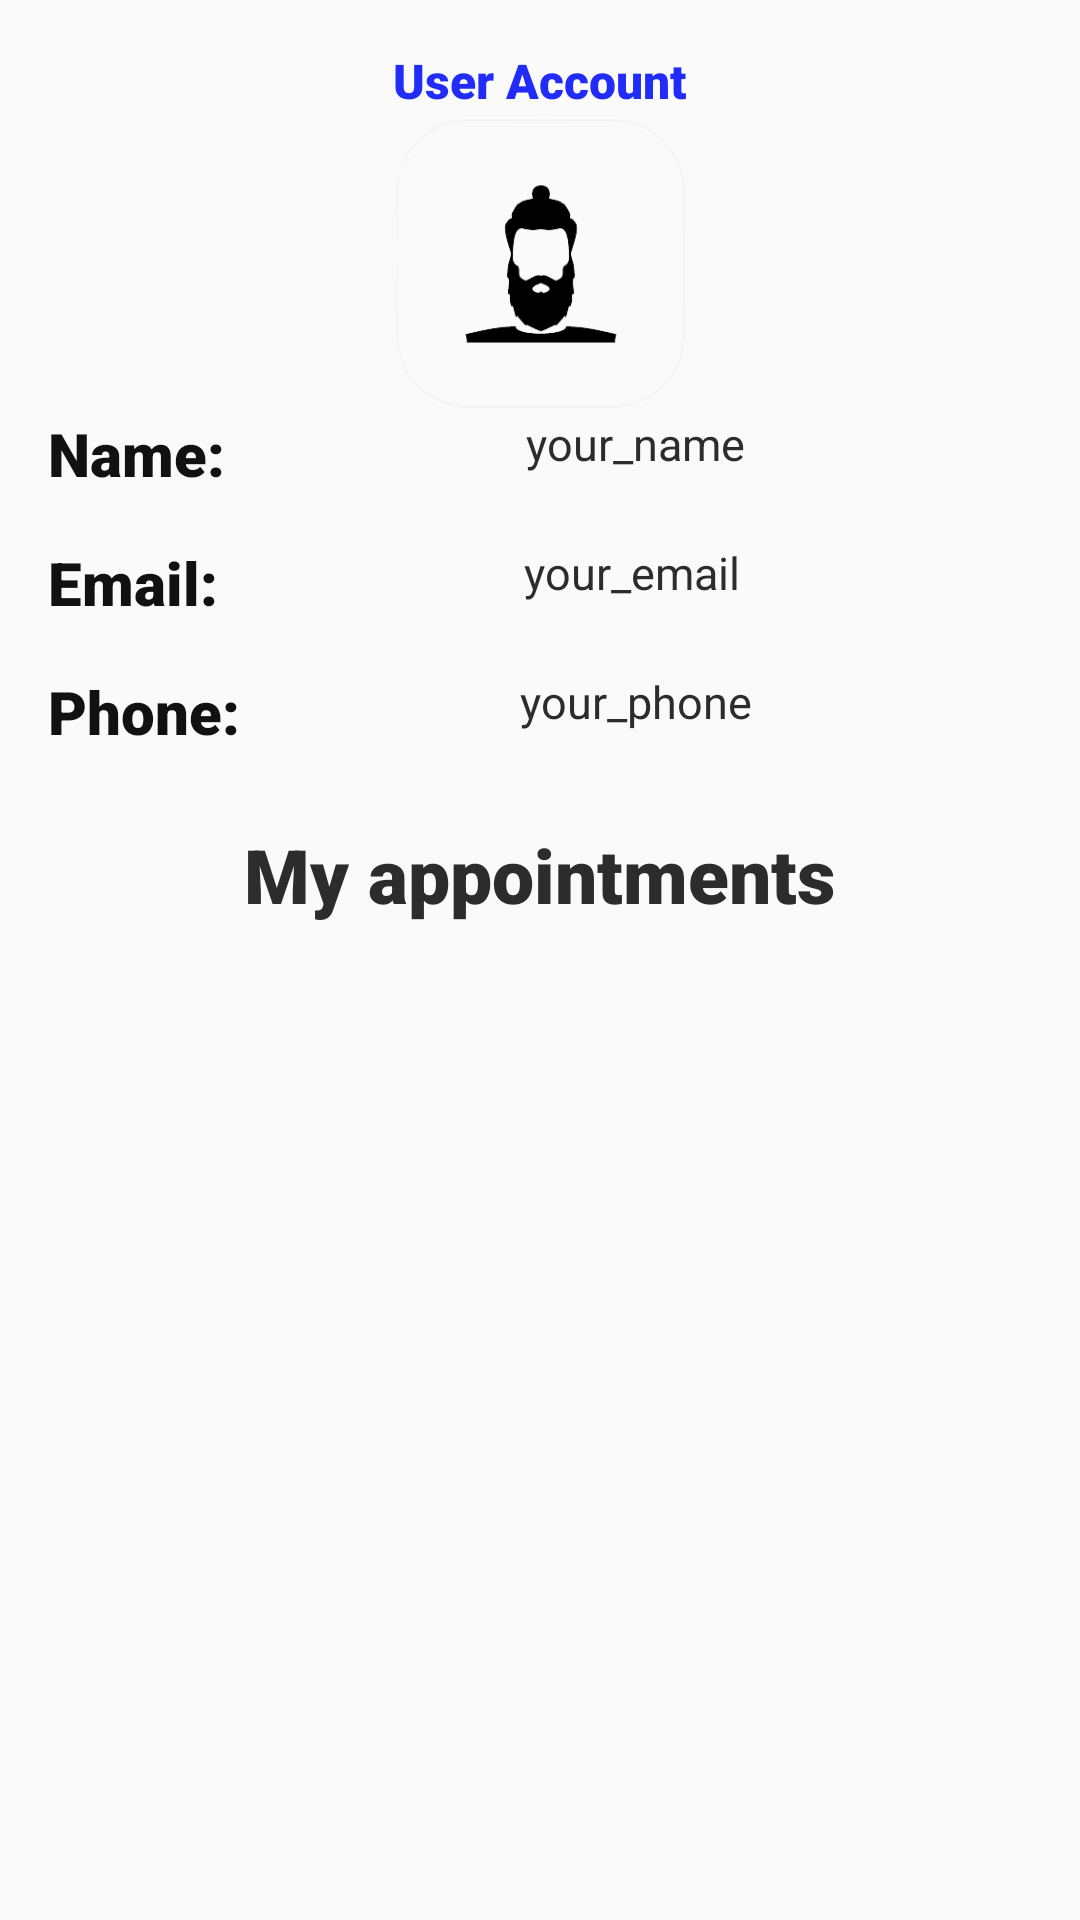

Named icons in this screenshot (1080w x 1920h) and their centers, [x,y]:
profile: [541,264]
